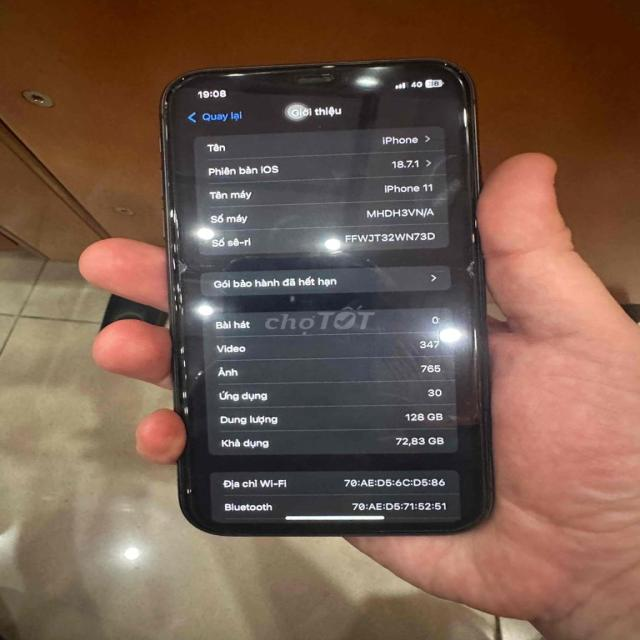gen_11: (153, 53, 507, 566)
